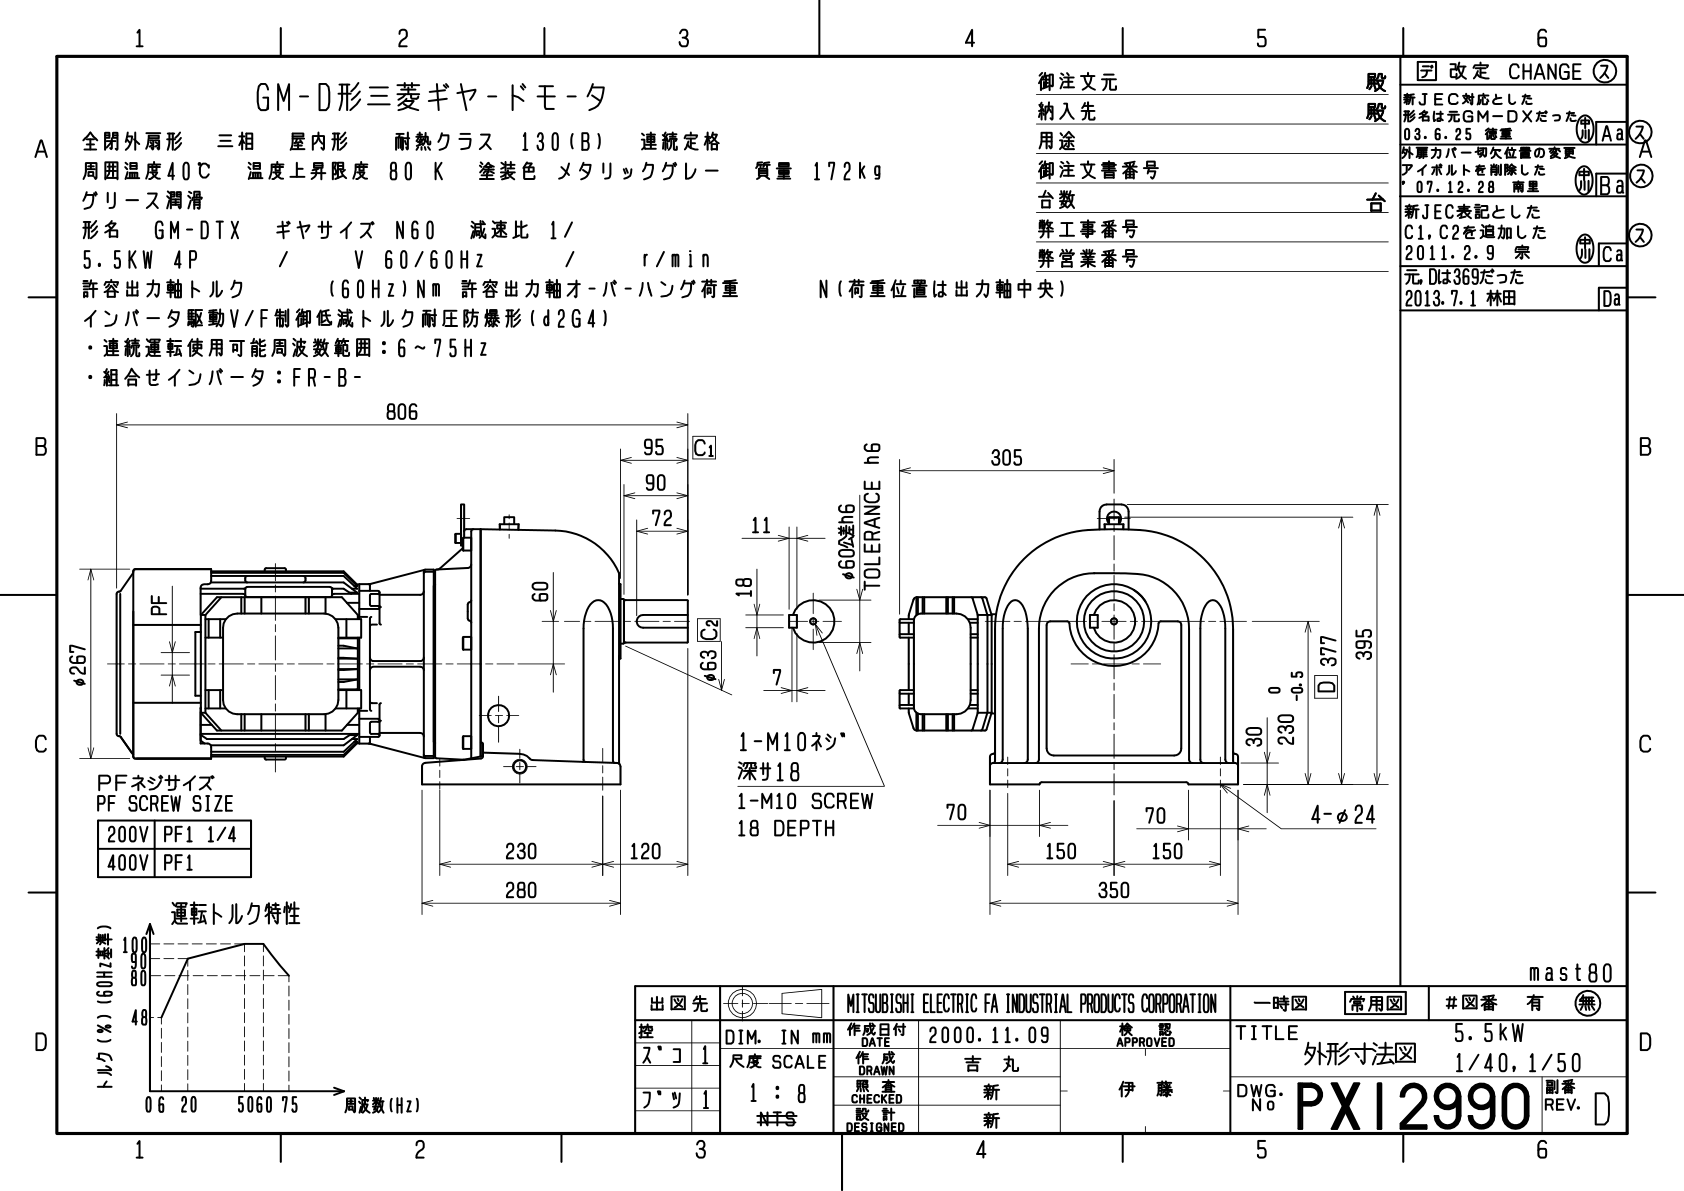GM_D_制御屋内_三相_脚: (15, 10, 1684, 1191)
